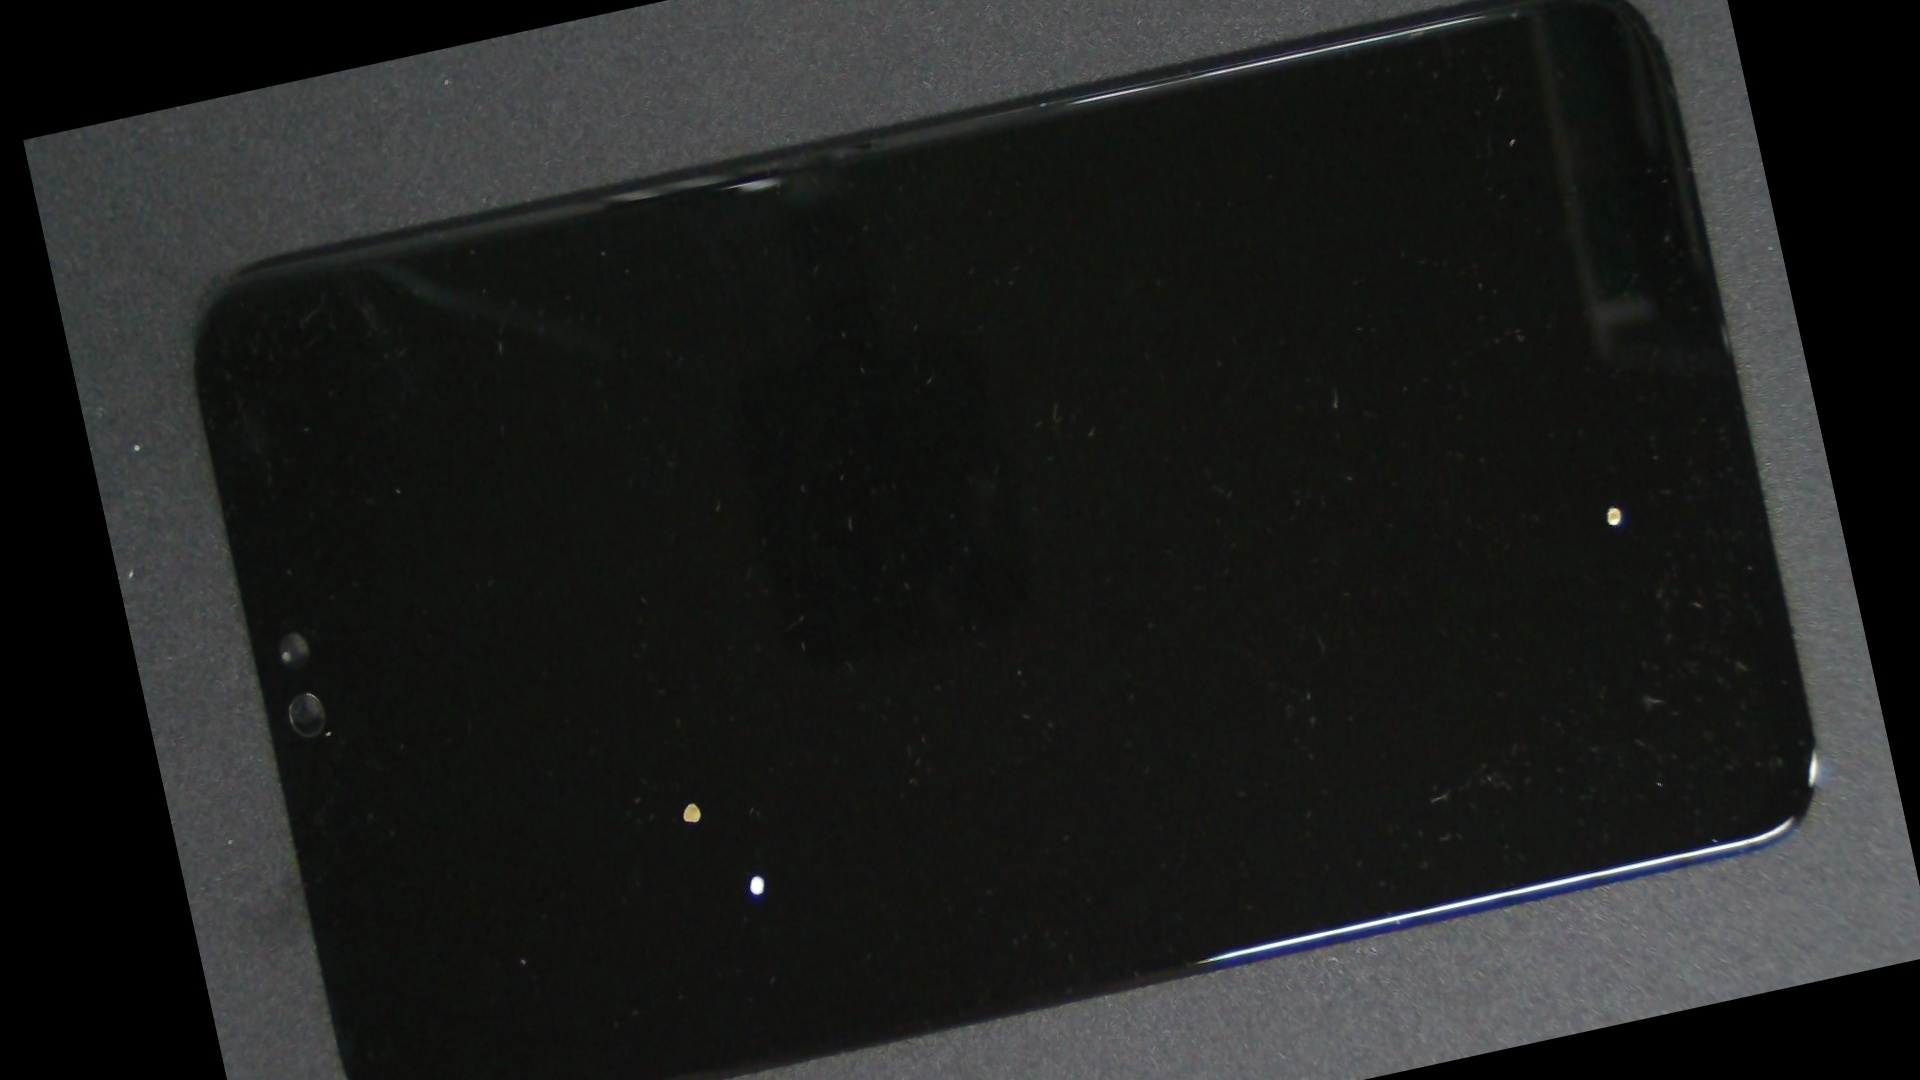oil: (819, 119, 1900, 1001), (389, 389, 1092, 1080), (356, 363, 1022, 1080)
